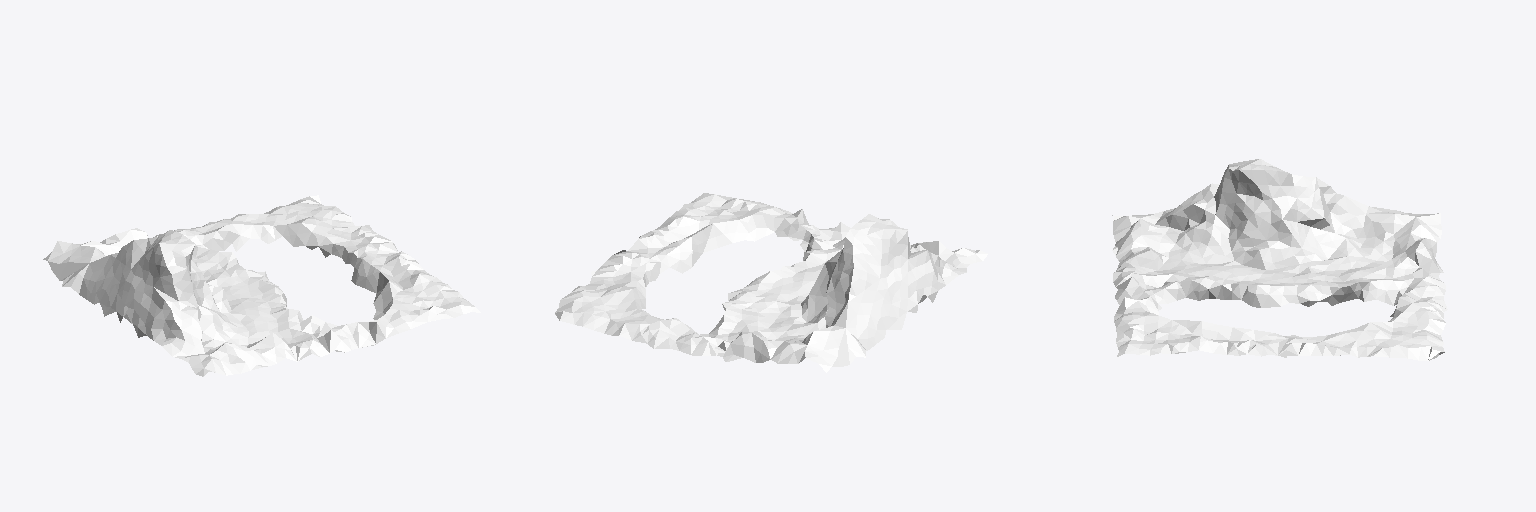
Rendered from WinterVillage_ground.obj.
3 views of the same model, side by side, from view 1: azimuth 30°, elevation 25°; view 2: azimuth 150°, elevation 25°; view 3: azimuth 270°, elevation 25° (orthographic).
Visible parts, largest first — view 1: Ground; view 2: Ground; view 3: Ground.
Boxes of the visible parts, x1,y1,x2,y2 form: Ground: [43, 195, 480, 376]; Ground: [555, 193, 987, 372]; Ground: [1112, 159, 1447, 360].
Size of the model in its own units: 95.94 by 29.51 by 95.44.